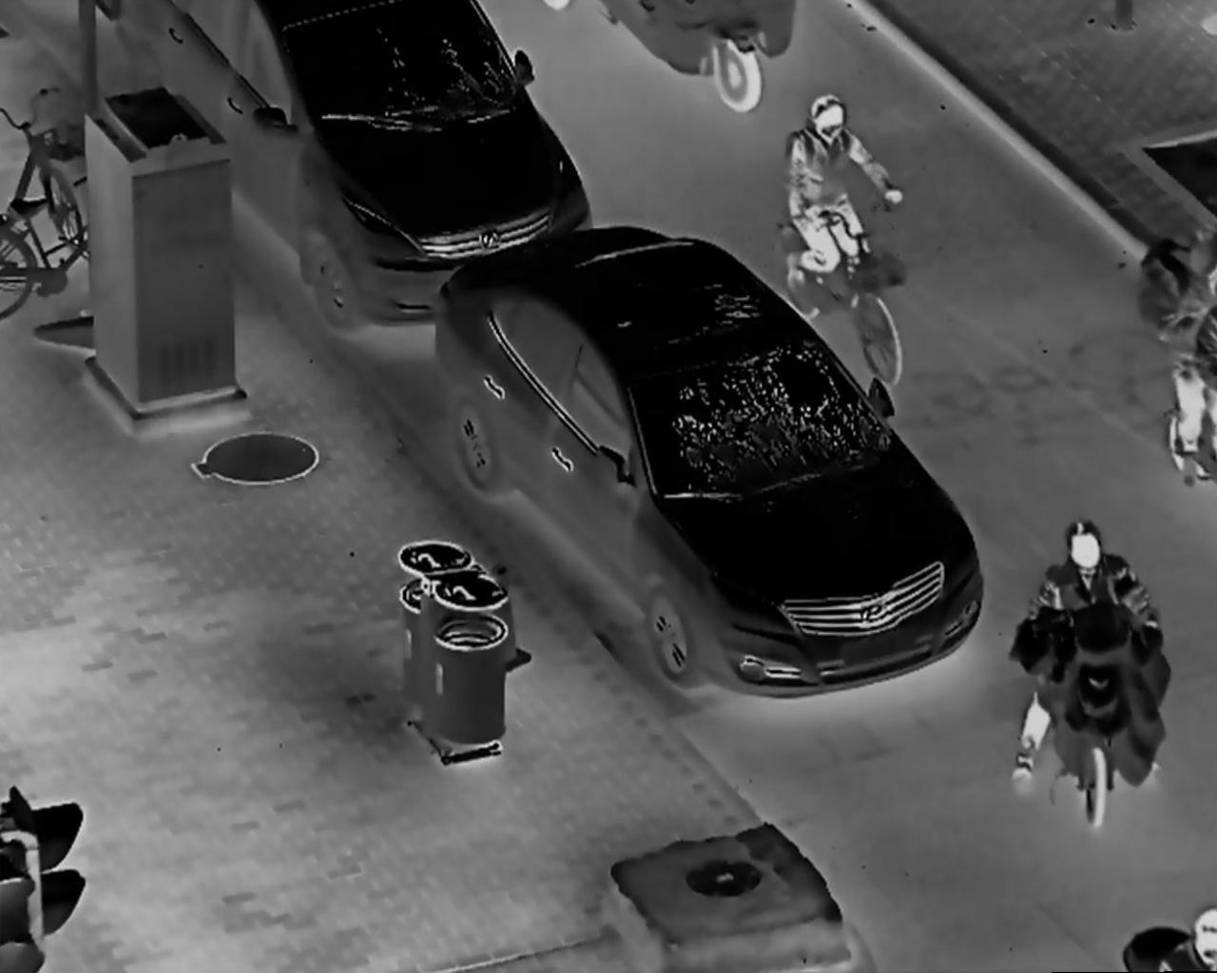person: (1011, 517, 1169, 790), (782, 90, 905, 324), (1160, 221, 1217, 481), (1145, 906, 1217, 972)
